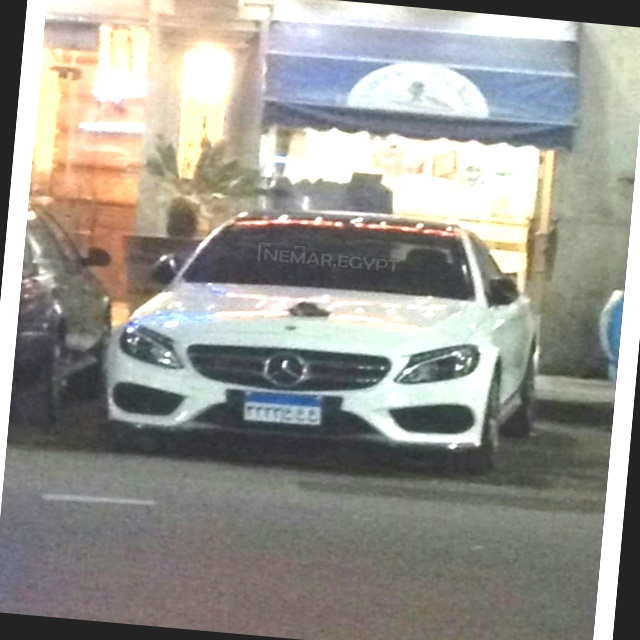License Plate: (237, 386, 327, 431)
